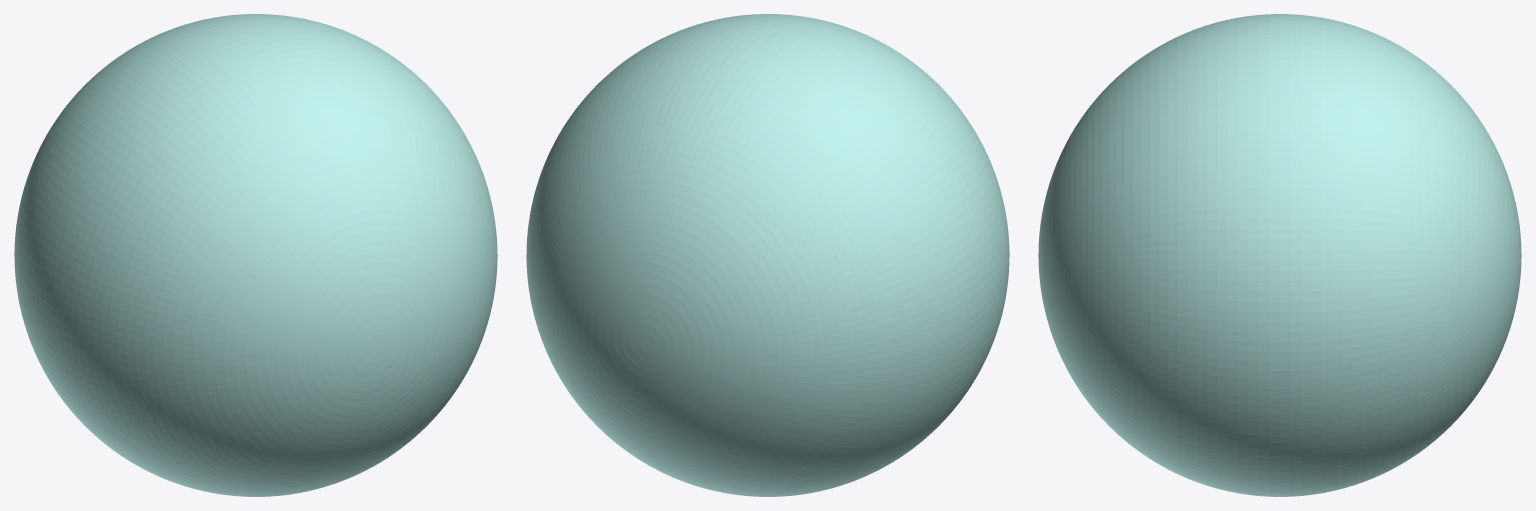
File: EEZYbotARM_Mk2_robot_base_vis_15.dae
The picture shows the model from 3 angles, left to right: view 1: azimuth 30°, elevation 25°; view 2: azimuth 150°, elevation 25°; view 3: azimuth 270°, elevation 25°; orthographic projection.
Visible parts, largest first — view 1: node; view 2: node; view 3: node.
Boxes of the visible parts, x1,y1,x2,y2 form: node: (14,14,497,496); node: (526,14,1009,496); node: (1038,14,1521,496).
Size of the model in its own units: 0.006 by 0.006 by 0.006.
